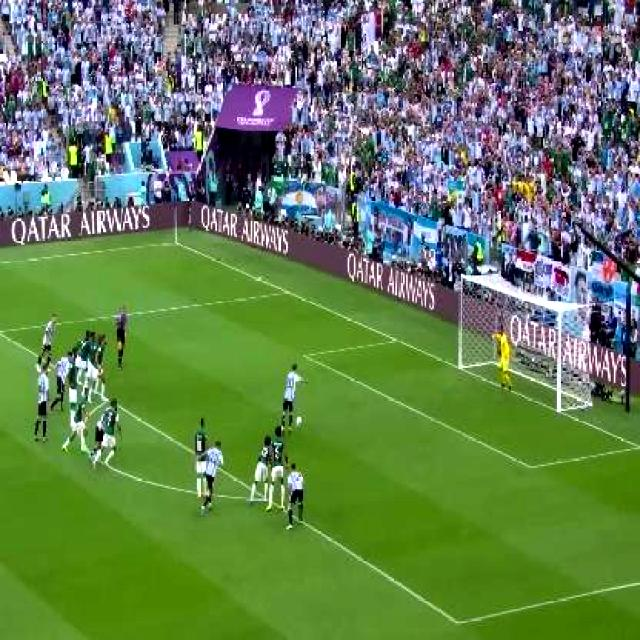bigarea_bottom_inner: (445, 603, 469, 639)
bigarea_top_inner: (0, 320, 8, 343)
bigarea_top_outter: (278, 283, 294, 299)
corner: (165, 235, 183, 248)
smallarea_bottom_inner: (517, 449, 540, 480)
smallarea_bottom_outter: (627, 432, 640, 459)
smallarea_top_inner: (296, 344, 312, 364)
smallarea_top_outter: (388, 329, 404, 349)
top_arc_area_intersection: (100, 389, 114, 408)
